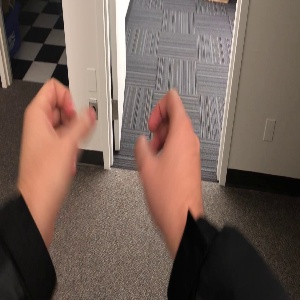hand: (17, 77, 96, 211), (135, 88, 203, 216)
